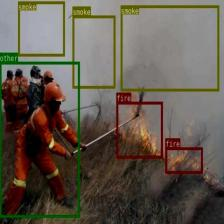fire: (116, 102, 162, 158), (165, 147, 203, 173)
smoke: (120, 5, 219, 91), (72, 15, 115, 88), (17, 1, 64, 56)
